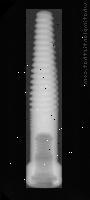Implant Direct: (26, 9, 62, 188)
